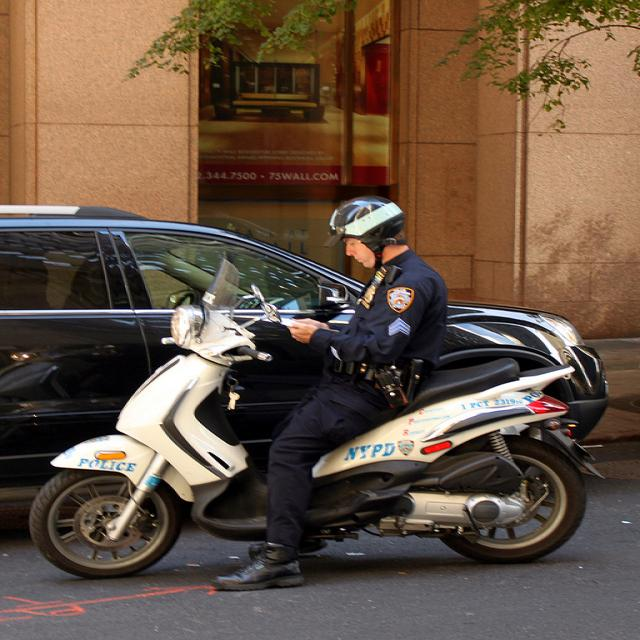motor: (34, 302, 611, 580)
